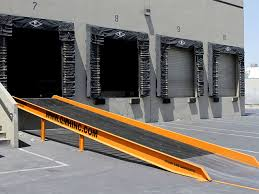Yard Ramp: (15, 94, 259, 186)
